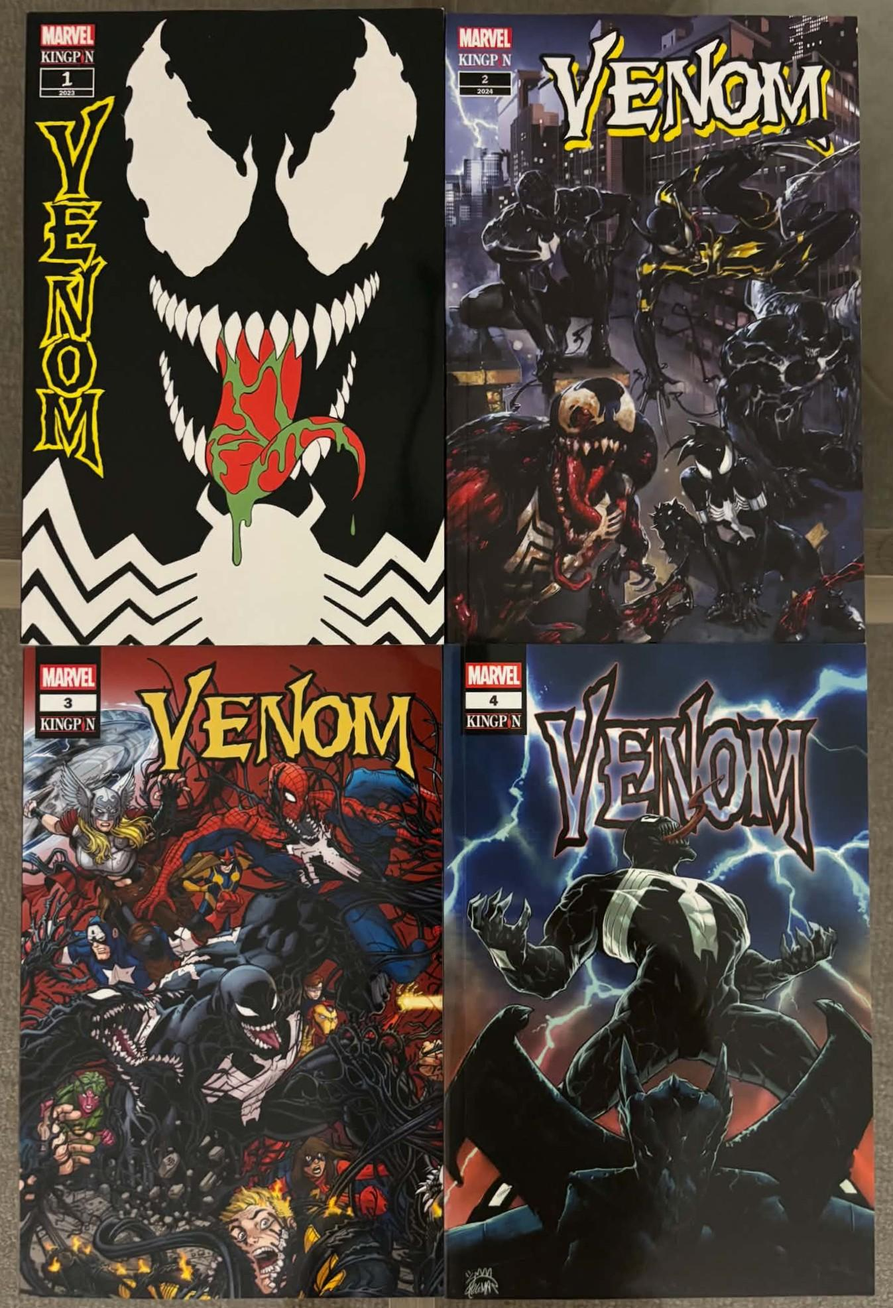comic: (441, 641, 874, 1301), (21, 647, 442, 1301), (23, 9, 443, 644), (444, 12, 863, 643)
